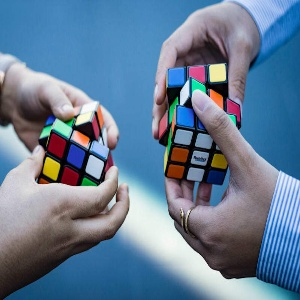cube: (158, 63, 243, 188), (34, 101, 118, 200)
